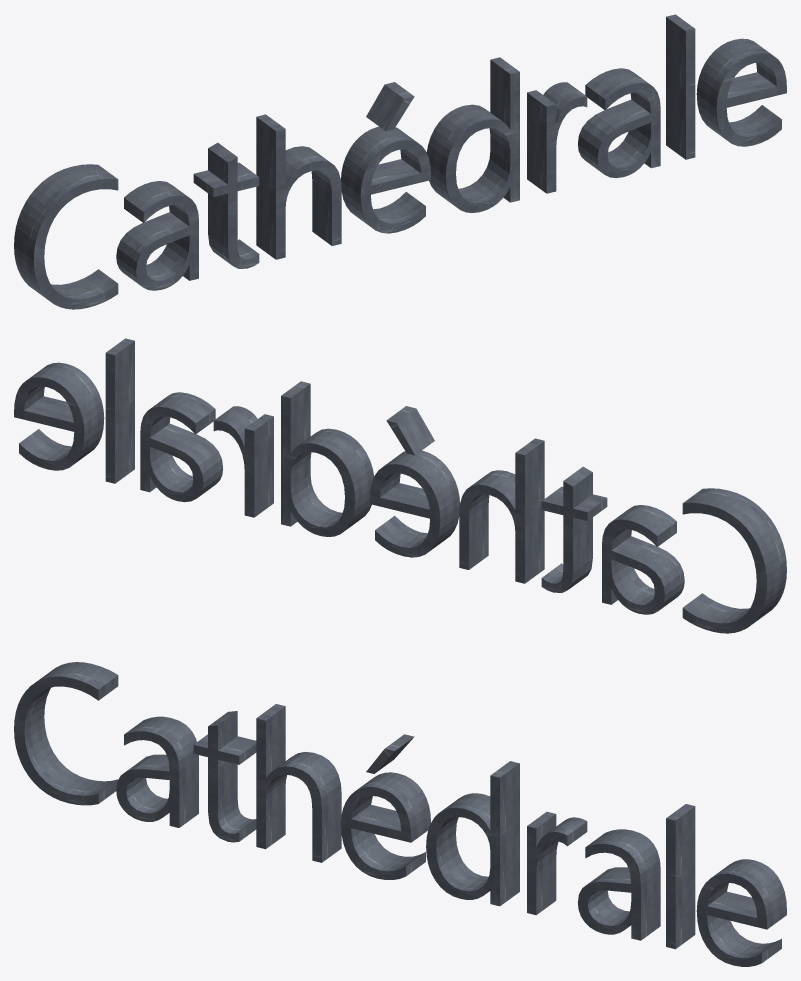
Rendered from Cathédrale.fbx.
The picture shows the model from 3 angles, top to bottom: view 1: azimuth 30°, elevation 25°; view 2: azimuth 150°, elevation 25°; view 3: azimuth 330°, elevation 25°; orthographic projection.
Visible parts, largest first — view 1: Métal - Fer; view 2: Métal - Fer; view 3: Métal - Fer.
Boxes of the visible parts, box(x1,y1,x2,y2) form: Métal - Fer: box(14, 14, 786, 309); Métal - Fer: box(14, 338, 786, 633); Métal - Fer: box(14, 662, 786, 966).
Bounding box in the file's own units: 657 × 30 × 110.
Materials: 1 (1 with a texture image).
